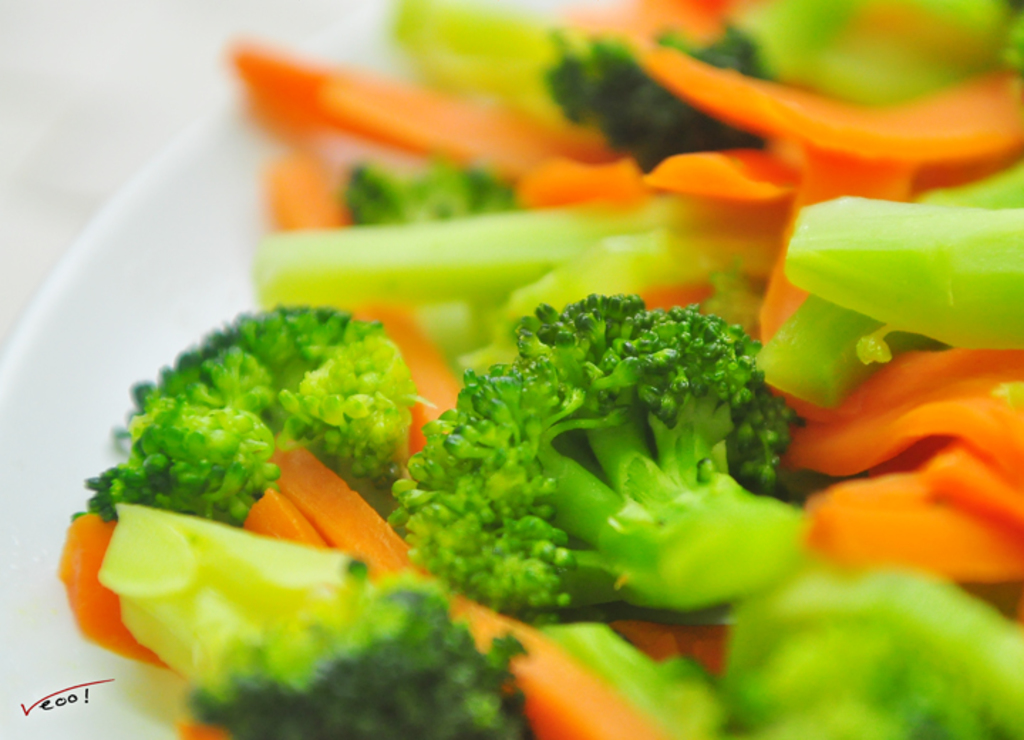Carrot: (55, 0, 1024, 739)
